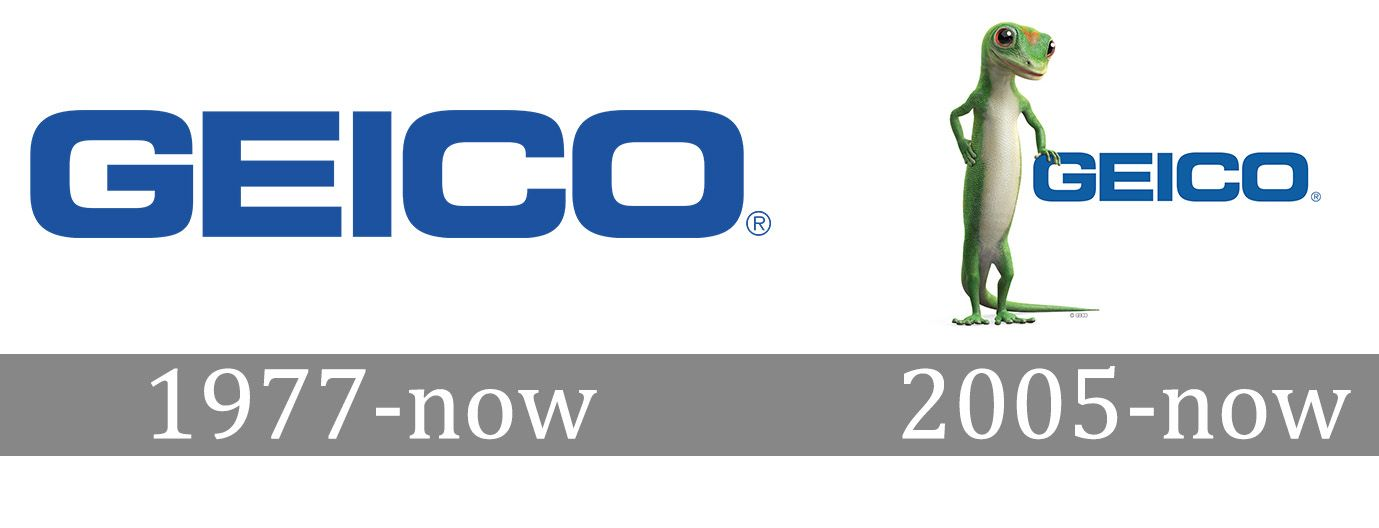Geico: (22, 100, 787, 260), (1033, 146, 1328, 206)
